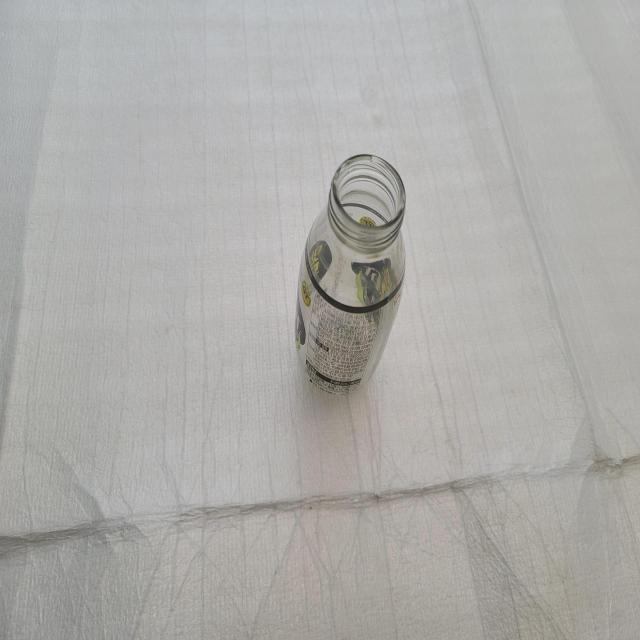glass: (295, 154, 406, 394)
